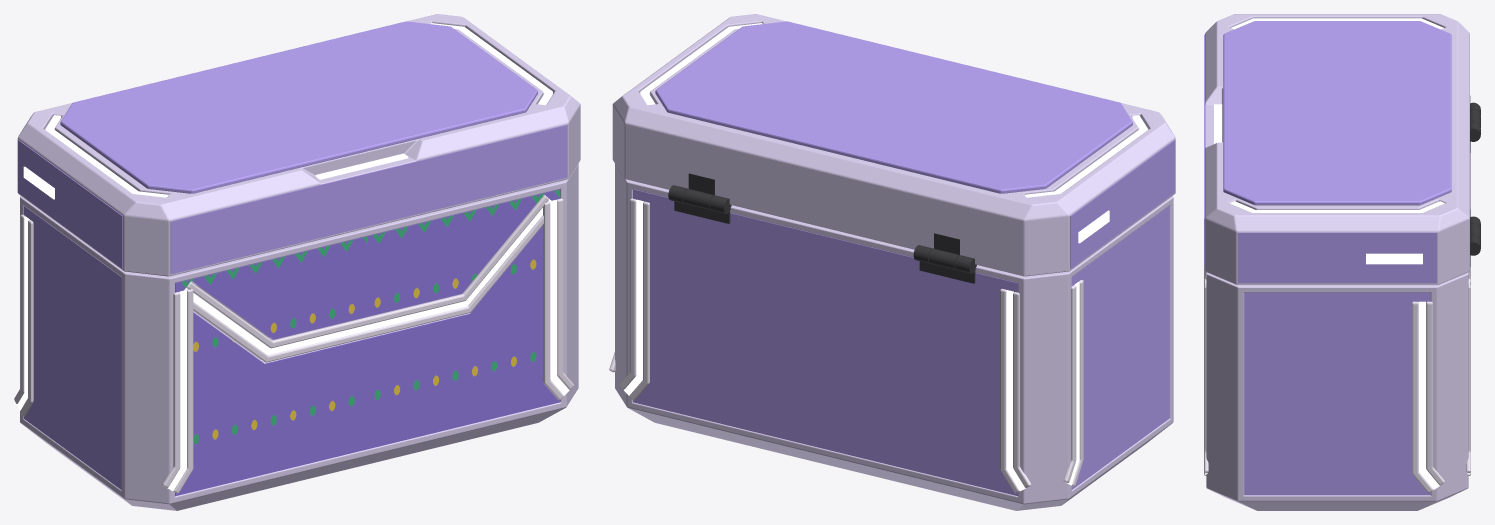
The model's file is easter.glb.
3 renders of one model, left to right at view 1: azimuth 30°, elevation 25°; view 2: azimuth 150°, elevation 25°; view 3: azimuth 270°, elevation 25°, orthographic. The views are drawn at different scales.
Parts seen in each view (by area): view 1: PlateFB, LidTopPanel, BodyCore, LidFrontPlate, LidBand, PlateSide, LidSidePlate, Rail_5, Rail_4, LedPath_3, Rail_16, LedPath_15 (+9 smaller); view 2: PlateFB.001, LidTopPanel, LidBand, BodyCore, PlateSide, LidSidePlate, Rail_10, Rail_20, LedPath_9, LedPath_18, Rail_11, Rail_19 (+5 smaller); view 3: LidTopPanel, PlateSide.001, BodyCore, LidBand, LidSidePlate.001, LedPath_21, Rail_22, Rail_23, LedPath_27, LedPath_30, LedPath_26, Rail_17 (+2 smaller).
Part boxes in pixels (x1,y1,x2,y2): PlateFB: [175, 189, 560, 496]; LidTopPanel: [60, 21, 537, 193]; BodyCore: [20, 163, 578, 510]; LidFrontPlate: [170, 125, 567, 274]; LidBand: [17, 14, 580, 276]; PlateSide: [23, 206, 121, 489]; LidSidePlate: [17, 139, 122, 268]; Rail_5: [186, 195, 548, 348]; Rail_4: [193, 215, 543, 362]; LedPath_3: [184, 199, 550, 354]; Rail_16: [543, 201, 563, 400]; LedPath_15: [549, 199, 569, 395]; PlateFB.001: [633, 189, 1018, 496]; LidTopPanel: [655, 21, 1132, 193]; LidBand: [612, 14, 1175, 276]; BodyCore: [615, 164, 1173, 510]; PlateSide: [1071, 205, 1169, 489]; LidSidePlate: [1070, 139, 1175, 268]; Rail_10: [1000, 288, 1019, 493]; Rail_20: [629, 201, 649, 400]; LedPath_9: [1006, 290, 1025, 491]; LedPath_18: [624, 199, 643, 395]; Rail_11: [1013, 292, 1031, 487]; Rail_19: [619, 198, 636, 389]; LidTopPanel: [1223, 21, 1451, 205]; PlateSide.001: [1244, 292, 1430, 495]; BodyCore: [1206, 272, 1468, 510]; LidBand: [1205, 14, 1469, 284]; LidSidePlate.001: [1238, 232, 1436, 283]; LedPath_21: [1418, 301, 1439, 489]; Rail_22: [1412, 301, 1433, 493]; Rail_23: [1426, 301, 1444, 485]; LedPath_27: [1230, 201, 1444, 212]; LedPath_30: [1366, 253, 1422, 264]; LedPath_26: [1231, 18, 1443, 29]; Rail_17: [1204, 284, 1208, 473].
Size of the model in its own units: 1.78 by 1.17 by 0.971.
Materials: 8 (1 with a texture image).
